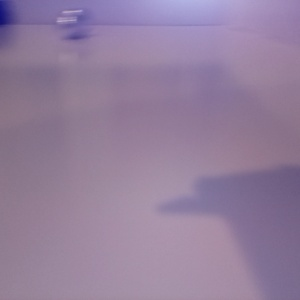alive_ball: (153, 71, 260, 183), (242, 72, 296, 133)
dead_ball: (183, 50, 250, 112), (244, 62, 297, 113)
